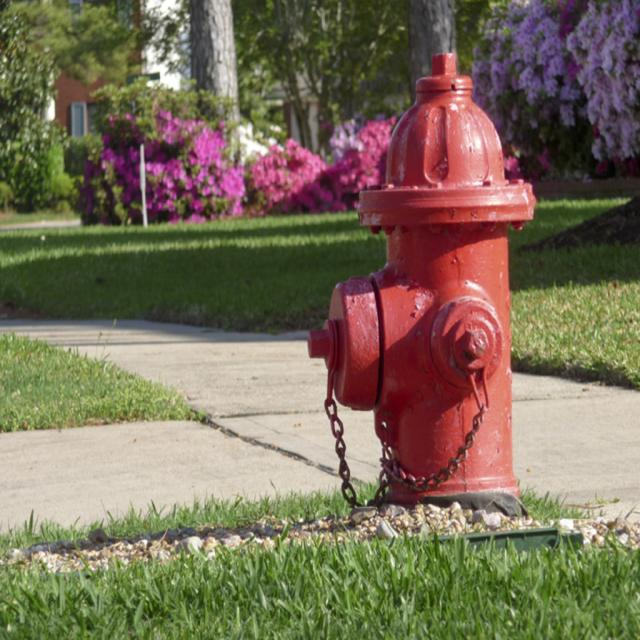fire_hydrant: (308, 54, 534, 514)
